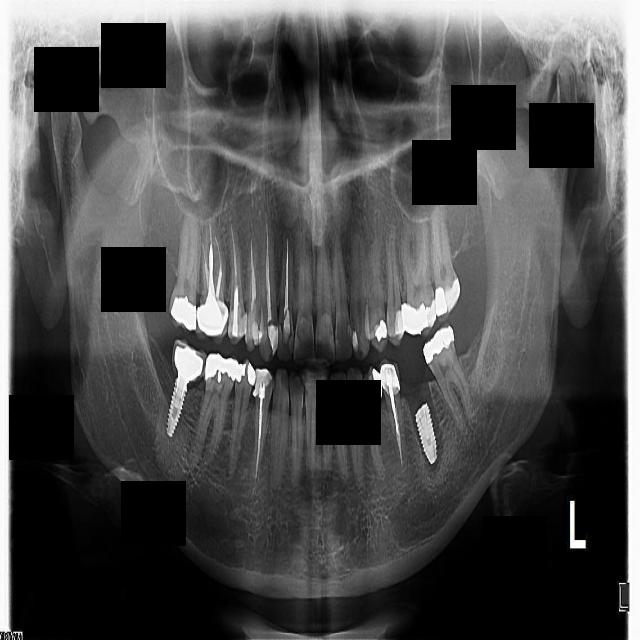55: (163, 338, 211, 394), (412, 401, 443, 465), (163, 378, 188, 438)
71: (199, 241, 222, 327), (384, 369, 400, 436), (258, 383, 265, 440), (232, 286, 239, 339)
74: (263, 222, 273, 323), (200, 241, 211, 288), (394, 409, 402, 470), (230, 223, 238, 283), (251, 240, 257, 317), (285, 236, 291, 313), (215, 237, 222, 300), (253, 438, 261, 480), (210, 220, 212, 245)
NucleOSS Implant: (417, 322, 461, 367), (204, 353, 238, 382), (170, 294, 196, 330), (402, 303, 430, 336), (431, 285, 449, 317), (242, 362, 260, 387), (373, 319, 389, 342), (372, 368, 382, 400), (235, 363, 246, 384)
Straumann Implant: (246, 299, 263, 351), (227, 307, 247, 344), (252, 368, 273, 399), (444, 277, 461, 313), (265, 323, 284, 355), (392, 310, 405, 339), (425, 299, 437, 327), (283, 309, 290, 341), (350, 327, 358, 351), (347, 322, 352, 346)
Zimmer Implant: (193, 298, 230, 342), (377, 357, 402, 399)
